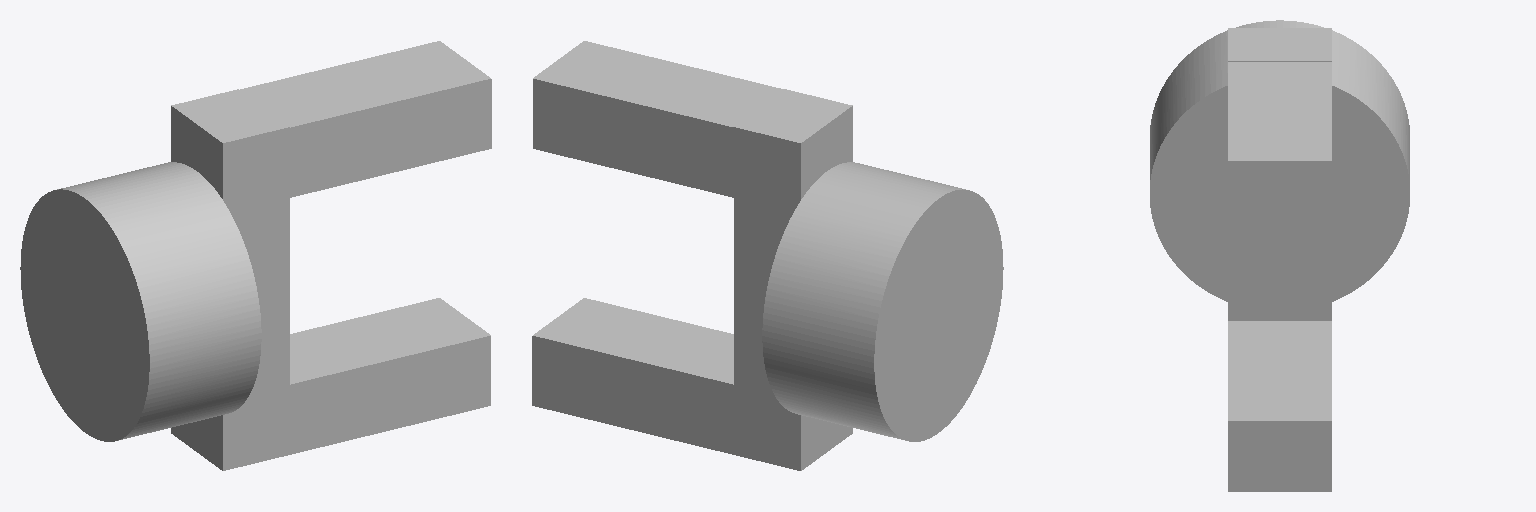
robot.urdf — Robot:
<?xml version="1.0" ?>
<robot name="Robot">
  <!--Generated by CROSS, a ROS Workbench for FreeCAD (https://github.com/galou/freecad.cross)-->
  <link name="gripper_base_link">
    <visual>
      <!--gripper_body_base-->
      <origin rpy="0.0 -0.0 0.0" xyz="0.0 0.0 0.0"/>
      <geometry>
        <mesh filename="package://gripper/meshes/freecad_gripper_gripper_body_base.dae"/>
      </geometry>
    </visual>
    <collision>
      <!--gripper_body_base-->
      <origin rpy="0.0 -0.0 0.0" xyz="0.0 0.0 0.0"/>
      <geometry>
        <mesh filename="package://gripper/meshes/freecad_gripper_gripper_body_base.dae"/>
      </geometry>
    </collision>
    <inertial>
      <mass value="0.0"/>
      <origin rpy="0.0 -0.0 0.0" xyz="0.0 0.0 0.0"/>
      <inertia ixx="0.0" ixy="0.0" ixz="0.0" iyy="0.0" iyz="0.0" izz="0.0"/>
    </inertial>
  </link>
  <link name="finger_link">
    <visual>
      <!--finger-->
      <origin rpy="0.0 -0.0 0.0" xyz="0.0 0.0 0.0"/>
      <geometry>
        <mesh filename="package://gripper/meshes/freecad_gripper_finger.dae"/>
      </geometry>
    </visual>
    <collision>
      <!--finger-->
      <origin rpy="0.0 -0.0 0.0" xyz="0.0 0.0 0.0"/>
      <geometry>
        <mesh filename="package://gripper/meshes/freecad_gripper_finger.dae"/>
      </geometry>
    </collision>
    <inertial>
      <mass value="0.0"/>
      <origin rpy="0.0 -0.0 0.0" xyz="0.0 0.0 0.0"/>
      <inertia ixx="0.0" ixy="0.0" ixz="0.0" iyy="0.0" iyz="0.0" izz="0.0"/>
    </inertial>
  </link>
  <joint name="finger_joint" type="prismatic">
    <parent link="gripper_base_link"/>
    <child link="finger_link"/>
    <origin rpy="0.0 -0.0 0.0" xyz="0.08 0.0 0.067"/>
    <axis xyz="0 0 1"/>
    <limit effort="1000.0" lower="-0.079" upper="0.0" velocity="0.0"/>
  </joint>
</robot>

--- Render facts (derived) ---
3 views of the same robot in one strip: view 1: azimuth 30°, elevation 25°; view 2: azimuth 150°, elevation 25°; view 3: azimuth 270°, elevation 25° (orthographic).
Robot: Robot — 2 links, 1 joints (1 prismatic); root link gripper_base_link; default pose: every joint at zero.
Visible links, largest first — view 1: gripper_base_link, finger_link; view 2: gripper_base_link, finger_link; view 3: gripper_base_link, finger_link.
Boxes of the visible links, <box> form: gripper_base_link: <box>20,89,490,470</box>; finger_link: <box>240,41,491,197</box>; gripper_base_link: <box>532,89,1003,470</box>; finger_link: <box>533,41,784,197</box>; gripper_base_link: <box>1150,20,1409,491</box>; finger_link: <box>1228,62,1331,231</box>.
Bounding box of the posed robot: 0.17 × 0.1 × 0.14 m (x, y, z).
Meshes: 2 distinct files referenced, 2 mesh visuals loaded (2 Collada DAE).